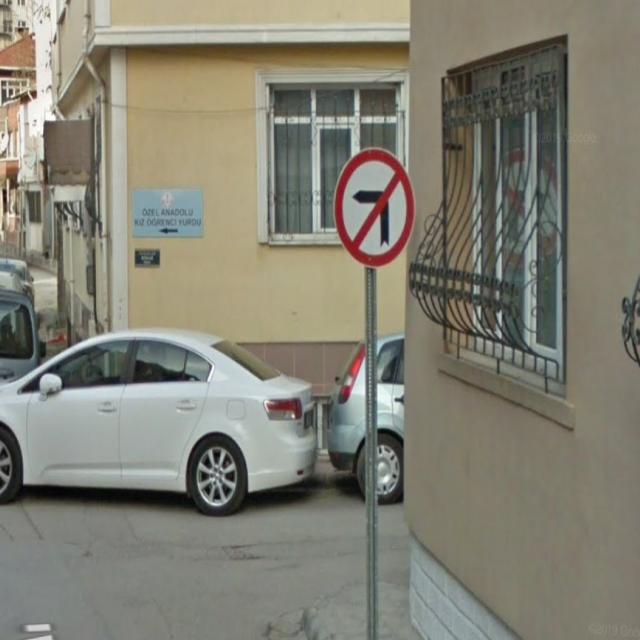soladonulmez: (334, 147, 415, 265)
